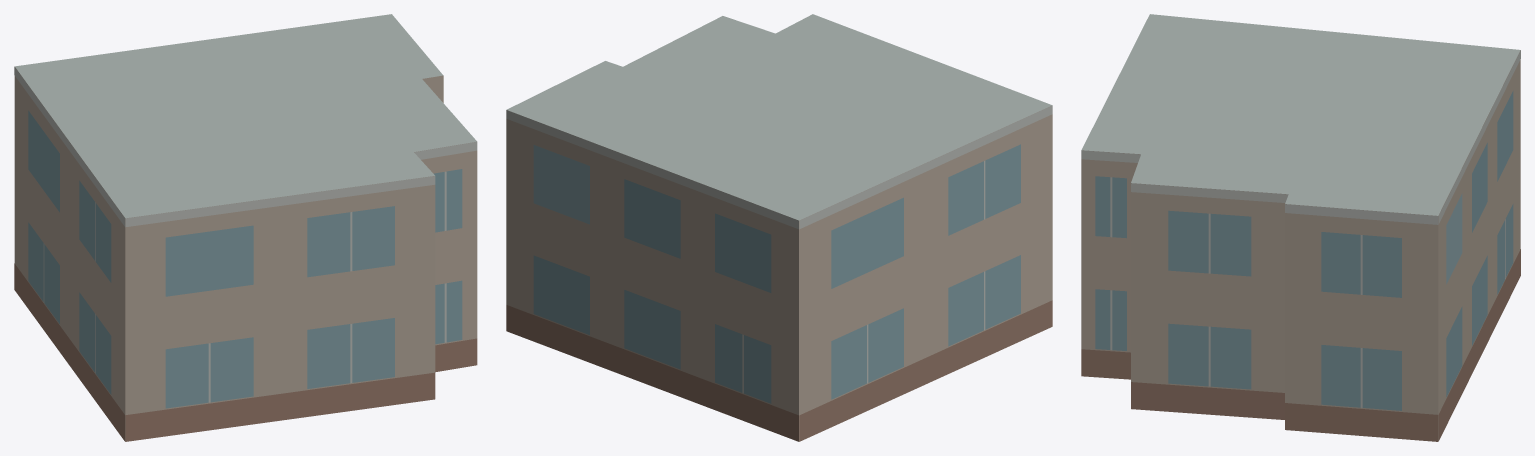
File: survey-upis-32955698.glb
3 renders of one model, left to right at view 1: azimuth 30°, elevation 25°; view 2: azimuth 150°, elevation 25°; view 3: azimuth 270°, elevation 25°, orthographic. The views are drawn at different scales.
Visible parts, largest first — view 1: survey-upis-32955698.tmp; view 2: survey-upis-32955698.tmp; view 3: survey-upis-32955698.tmp.
Part boxes in pixels (x1=…): survey-upis-32955698.tmp: x1=14, y1=14, x2=477, y2=441; survey-upis-32955698.tmp: x1=506, y1=14, x2=1052, y2=441; survey-upis-32955698.tmp: x1=1081, y1=14, x2=1520, y2=441.
Bounding box in the file's own units: 11.7 × 6.1 × 10.76.
